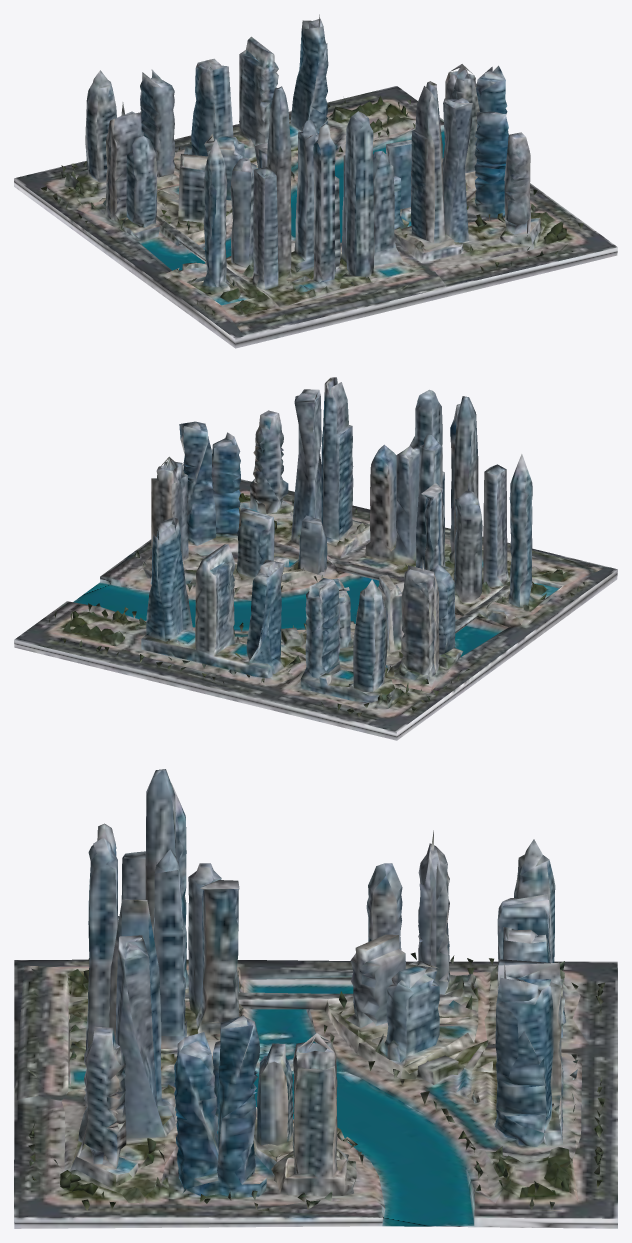
The model's file is dubai_business_bay_xfar.glb.
The picture shows the model from 3 angles, top to bottom: view 1: azimuth 30°, elevation 25°; view 2: azimuth 150°, elevation 25°; view 3: azimuth 270°, elevation 25°; orthographic projection. The views are drawn at different scales.
Parts seen in each view (by area): view 1: dubai_business_bay; view 2: dubai_business_bay; view 3: dubai_business_bay.
Boxes of the visible parts, left/top/right/bottom form: dubai_business_bay: left=14, top=14, right=617, bottom=348; dubai_business_bay: left=14, top=377, right=617, bottom=740; dubai_business_bay: left=14, top=769, right=617, bottom=1228.
Size of the model in its own units: 1.9 by 0.9407 by 1.9.
1 material, 1 textured.
